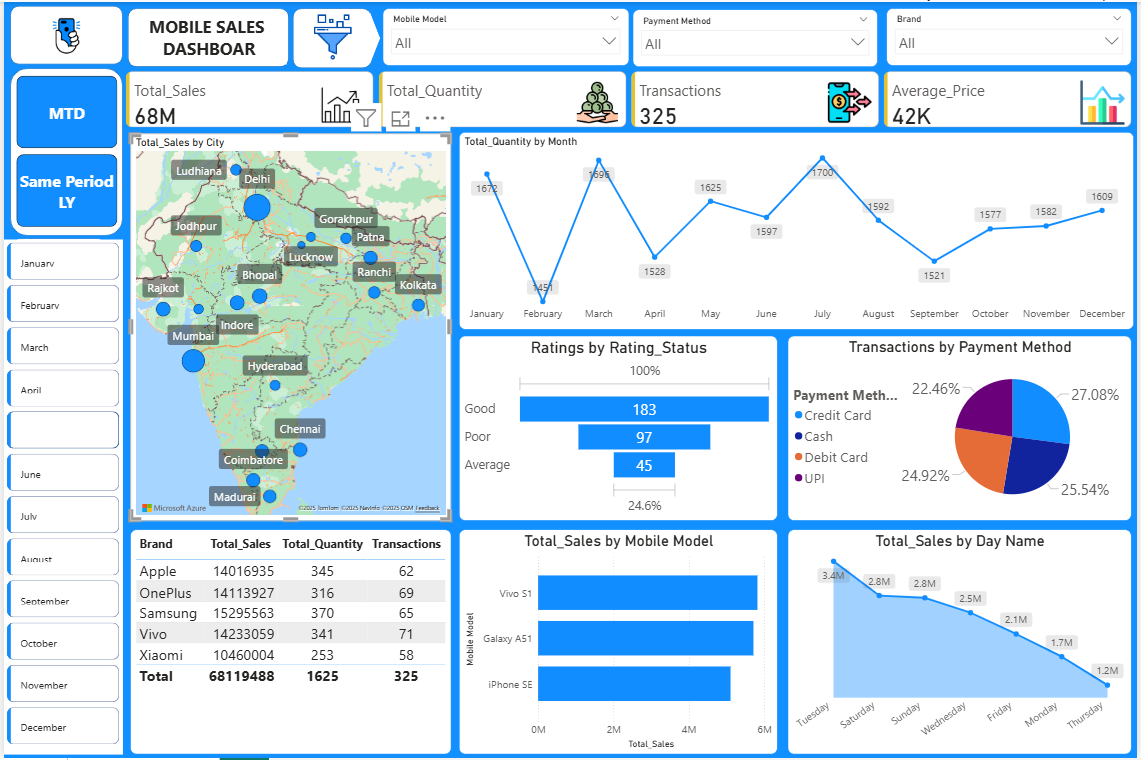

The dashboard page shown, as its layout file describes it:
{"tool":"powerbi","page":{"name":"Dashboard","canvas":[1800,1200],"ordinal":0},"visuals":[{"type":"shape","box":[9.9,6,178.6,93.3],"z":0},{"type":"image","box":[57.5,11.9,83.3,83.3],"z":1000},{"type":"shape","box":[4,375,166.7,805.6],"z":2000},{"type":"shape","box":[9.9,105.2,178.6,265.9],"z":3000},{"type":"advancedSlicerVisual","fields":{"Values":["Custom_Calendar.Date.Variation.Date Hierarchy.Month"]},"box":[0,377,188.5,817.5],"z":4000},{"type":"cardVisual","fields":{"Data":["Sales Data.Total_Sales","Sales Data.Total_Quantity","Sales Data.Transactions","Sales Data.Average_Price"]},"box":[188.5,105.2,1607.2,99.2],"z":5000},{"type":"slicer","fields":{"Values":["Sales Data.Mobile Model"]},"box":[601.2,9.9,390.9,91.3],"z":6000},{"type":"slicer","fields":{"Values":["Sales Data.Payment Method"]},"box":[998,11.9,388.9,91.3],"z":7000},{"type":"slicer","fields":{"Values":["Sales Data.Brand"]},"box":[1400.8,9.9,388.9,91.3],"z":8000},{"type":"shape","box":[458.3,9.9,125,95.2],"z":9000},{"type":"image","box":[464.3,13.9,115.1,83.3],"z":10000},{"type":"shape","box":[563.5,13.9,33.7,87.3],"z":11000},{"type":"shape","box":[196.4,9.9,256,93.3],"z":12000},{"type":"textbox","box":[202.4,15.9,246,83.3],"z":13000},{"type":"azureMap","fields":{"Category":["Sales Data.City"],"Size":["Sales Data.Total_Sales"]},"box":[200.4,208.3,509.9,615.1],"z":14000},{"type":"lineChart","fields":{"Category":["Custom_Calendar.Date.Variation.Date Hierarchy.Month"],"Y":["Sales Data.Total_Quantity"]},"box":[722.2,206.4,1071.4,313.5],"z":15000},{"type":"funnel","title":"Ratings by Rating_Status","fields":{"Y":["CountNonNull(Sales Data.Customer Ratings)"],"Category":["Sales Data.Rating_Status"]},"box":[722.2,529.8,506,293.7],"z":16000},{"type":"pieChart","fields":{"Y":["Sales Data.Transactions"],"Category":["Sales Data.Payment Method"]},"box":[1244.1,529.8,545.6,293.7],"z":17000},{"type":"clusteredBarChart","fields":{"Y":["Sales Data.Total_Sales"],"Category":["Sales Data.Mobile Model"]},"box":[722.2,837.3,506,357.1],"z":18000},{"type":"areaChart","fields":{"Y":["Sales Data.Total_Sales"],"Category":["Custom_Calendar.Day Name"]},"box":[1244.1,837.3,545.6,357.1],"z":19000},{"type":"tableEx","fields":{"Values":["Sales Data.Brand","Sales Data.Total_Sales","Sales Data.Total_Quantity","Sales Data.Transactions"]},"box":[200.4,837.3,509.9,357.1],"z":20000},{"type":"pageNavigator","box":[19.8,117.1,160.7,240.1],"z":21000}]}

Visuals, with their boxes in screenshot pixels (x1, y1, x2, y2), scaled from the page's 1800x1200 canvas onto the 1141x760 screenshot:
shape: Rect(6, 4, 119, 63)
image: Rect(36, 8, 89, 60)
shape: Rect(3, 238, 108, 748)
shape: Rect(6, 67, 119, 235)
advancedSlicerVisual - Custom_Calendar.Date.Variation.Date Hierarchy.Month: Rect(0, 239, 119, 757)
cardVisual - Sales Data.Total_Sales x Sales Data.Total_Quantity: Rect(119, 67, 1138, 129)
slicer - Sales Data.Mobile Model: Rect(381, 6, 629, 64)
slicer - Sales Data.Payment Method: Rect(633, 8, 879, 65)
slicer - Sales Data.Brand: Rect(888, 6, 1134, 64)
shape: Rect(291, 6, 370, 67)
image: Rect(294, 9, 367, 62)
shape: Rect(357, 9, 379, 64)
shape: Rect(124, 6, 287, 65)
textbox: Rect(128, 10, 284, 63)
azureMap - Sales Data.City x Sales Data.Total_Sales: Rect(127, 132, 450, 521)
lineChart - Custom_Calendar.Date.Variation.Date Hierarchy.Month x Sales Data.Total_Quantity: Rect(458, 131, 1137, 329)
"Ratings by Rating_Status" funnel: Rect(458, 336, 779, 522)
pieChart - Sales Data.Transactions x Sales Data.Payment Method: Rect(789, 336, 1134, 522)
clusteredBarChart - Sales Data.Total_Sales x Sales Data.Mobile Model: Rect(458, 530, 779, 756)
areaChart - Sales Data.Total_Sales x Custom_Calendar.Day Name: Rect(789, 530, 1134, 756)
tableEx - Sales Data.Brand x Sales Data.Total_Sales: Rect(127, 530, 450, 756)
pageNavigator: Rect(13, 74, 114, 226)
